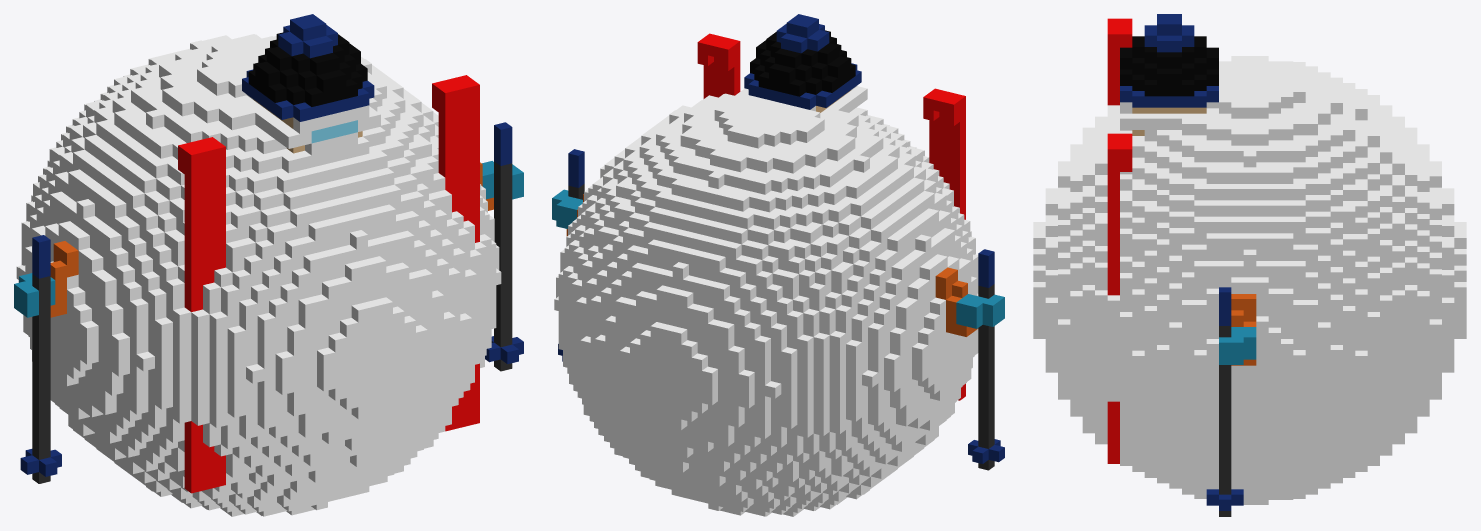
File: Skieur_victoire_boule_03.obj
3 views of the same model, side by side, from view 1: azimuth 30°, elevation 25°; view 2: azimuth 150°, elevation 25°; view 3: azimuth 270°, elevation 25° (orthographic). The views are drawn at different scales.
Size of the model in its own units: 43 by 41 by 35.
Materials: 1 (1 with a texture image).
